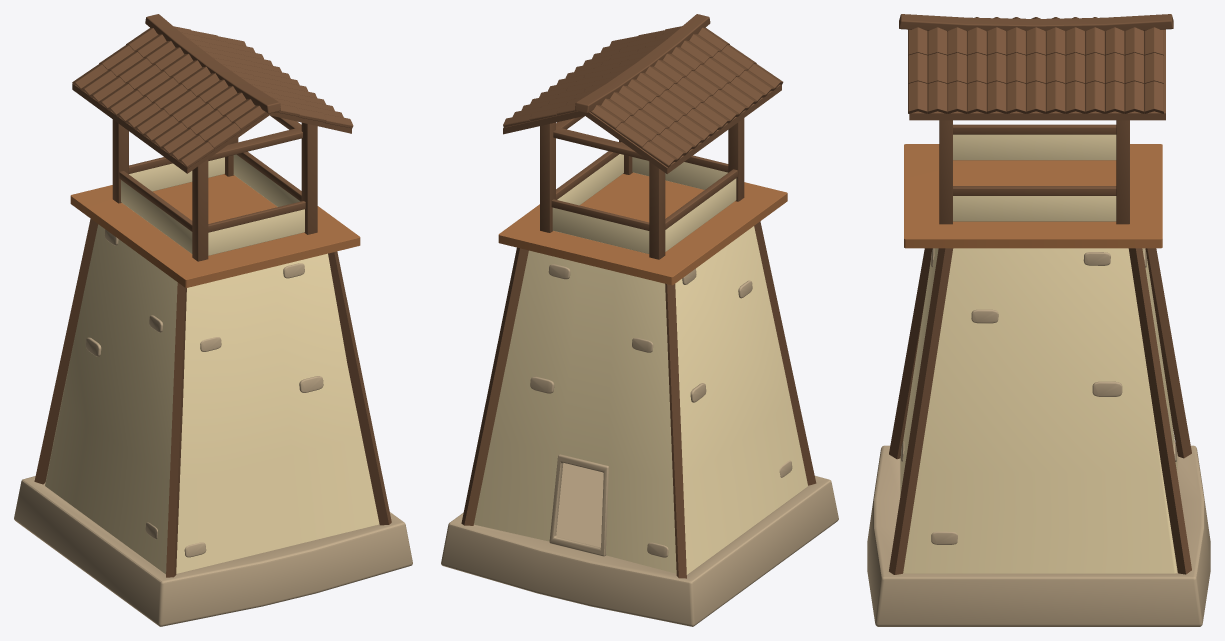
The model's file is Tower_3.fbx.
3 views of the same model, side by side, from view 1: azimuth 30°, elevation 25°; view 2: azimuth 150°, elevation 25°; view 3: azimuth 270°, elevation 25° (orthographic). The views are drawn at different scales.
Parts seen in each view (by area): view 1: Tower_3; view 2: Tower_3; view 3: Tower_3.
Boxes of the visible parts, bbox=[...] form: Tower_3: bbox=[14, 14, 412, 626]; Tower_3: bbox=[441, 14, 838, 626]; Tower_3: bbox=[867, 14, 1210, 626].
Bounding box in the file's own units: 6759 × 12406 × 7089.
